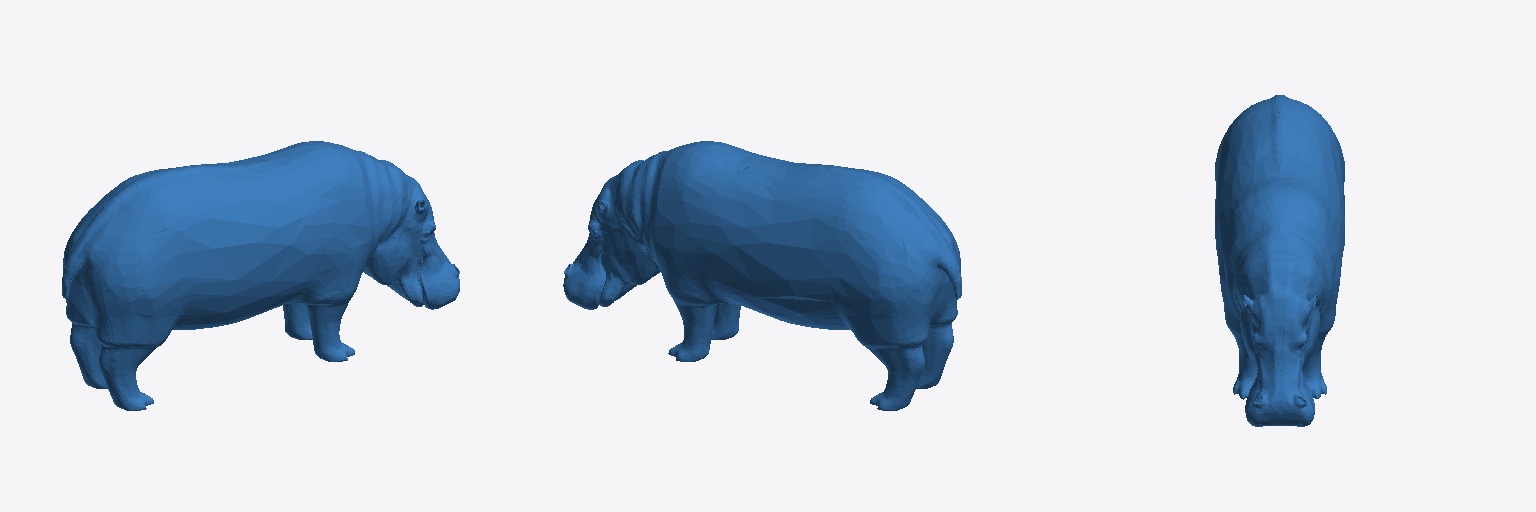
The model's file is hippo23KN.obj.
3 views of the same model, side by side, from view 1: azimuth 30°, elevation 25°; view 2: azimuth 150°, elevation 25°; view 3: azimuth 270°, elevation 25° (orthographic).
Size of the model in its own units: 51.44 by 26.93 by 15.12.